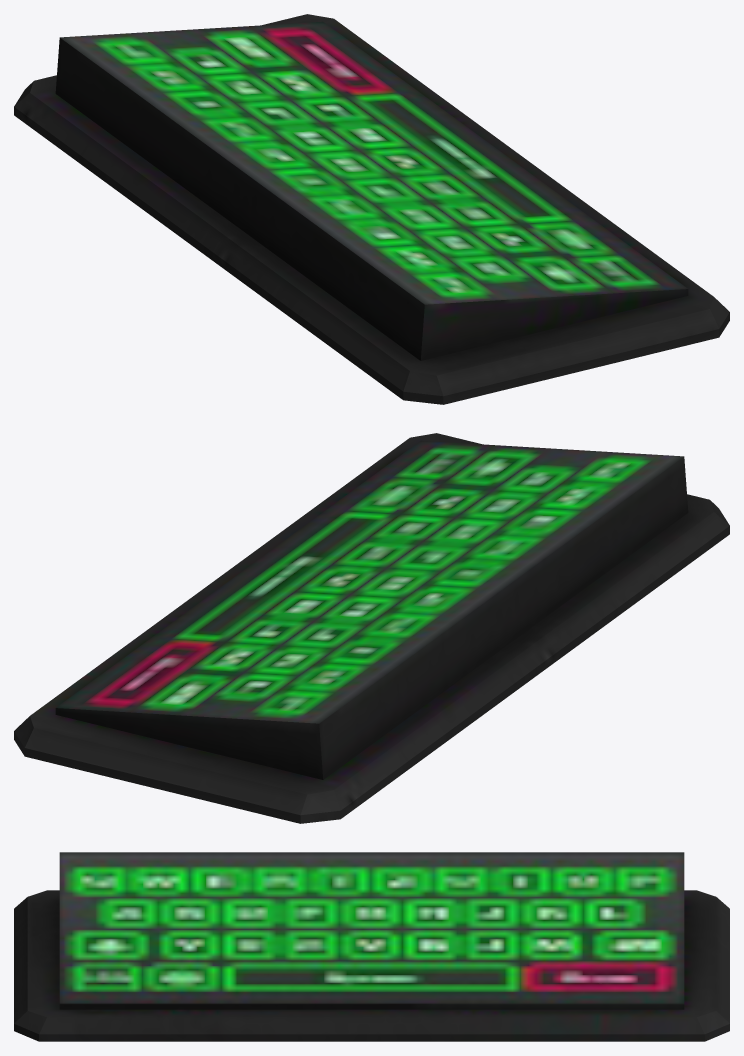
Rendered from Keyboard.FBX.
3 renders of one model, top to bottom at view 1: azimuth 30°, elevation 25°; view 2: azimuth 150°, elevation 25°; view 3: azimuth 270°, elevation 25°, orthographic. The views are drawn at different scales.
Visible parts, largest first — view 1: Keyboard; view 2: Keyboard; view 3: Keyboard.
Boxes of the visible parts, x1=… form: Keyboard: x1=14, y1=14, x2=729, y2=404; Keyboard: x1=14, y1=433, x2=729, y2=823; Keyboard: x1=14, y1=852, x2=729, y2=1041.
Bounding box in the file's own units: 23.55 × 5.42 × 52.29.
